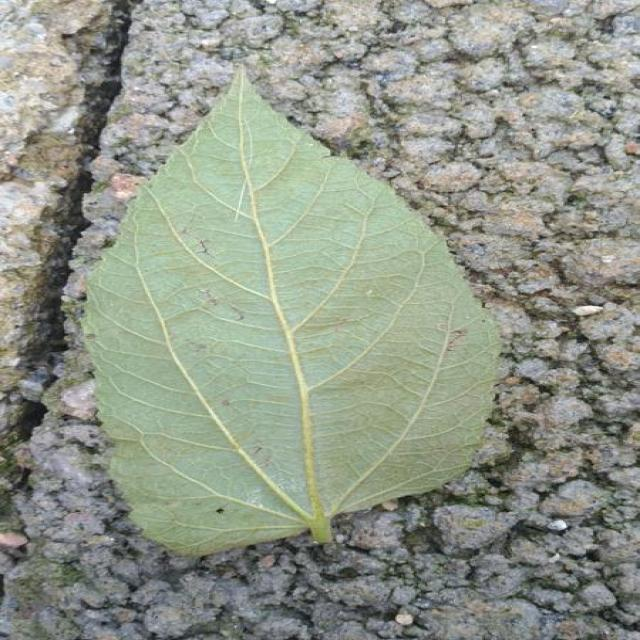gasagase: (83, 70, 500, 554)
